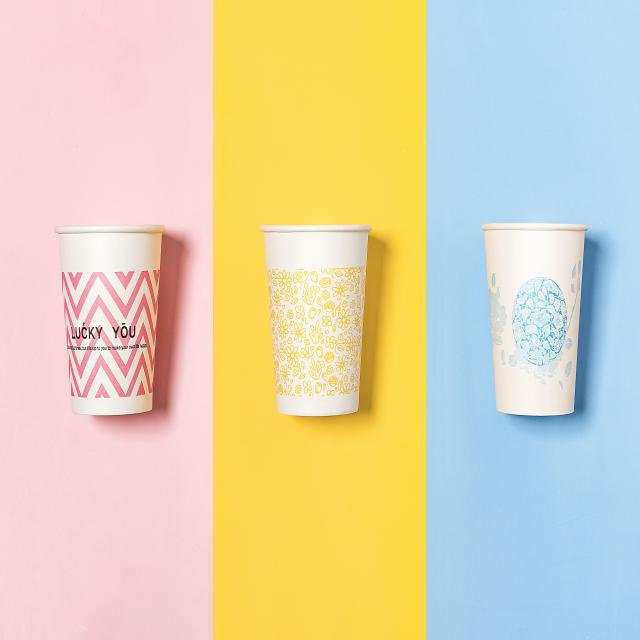cup: (258, 221, 372, 415), (55, 224, 165, 415), (481, 222, 587, 417)
